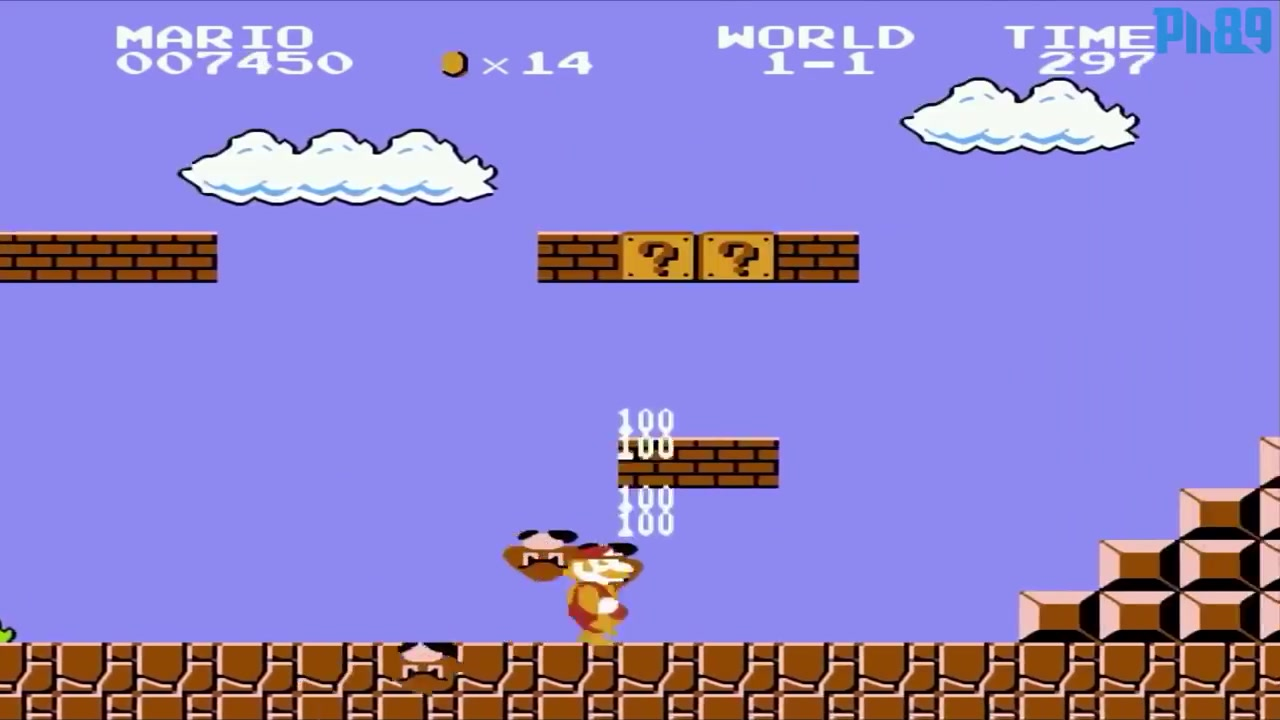mario: (562, 544, 638, 642)
